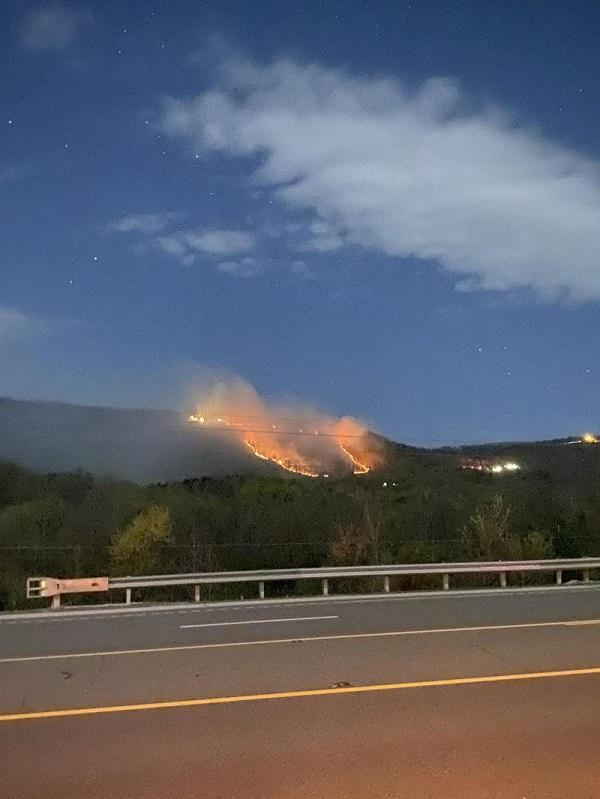fire: (201, 390, 378, 469)
